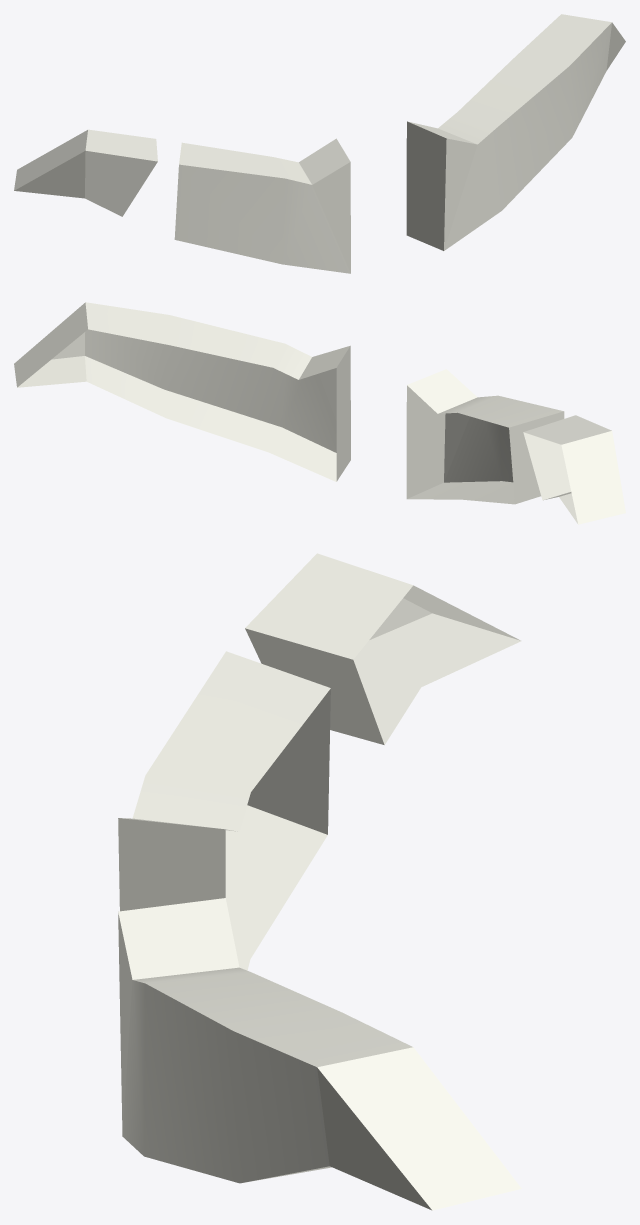
File: Brow_White_9.fbx
The picture shows the model from 3 angles, top to bottom: view 1: azimuth 30°, elevation 25°; view 2: azimuth 150°, elevation 25°; view 3: azimuth 270°, elevation 25°; orthographic projection. The views are drawn at different scales.
Parts seen in each view (by area): view 1: Brow_White_9; view 2: Brow_White_9; view 3: Brow_White_9.
Boxes of the visible parts, box(x1,y1,x2,y2) form: Brow_White_9: box(14, 14, 625, 273); Brow_White_9: box(14, 302, 625, 524); Brow_White_9: box(118, 553, 521, 1210).
Bounding box in the file's own units: 41.99 × 9.24 × 11.99.
